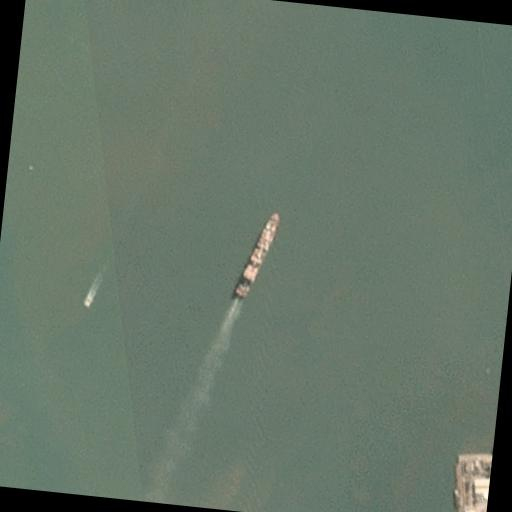ship: (231, 210, 281, 302), (82, 292, 94, 308)
